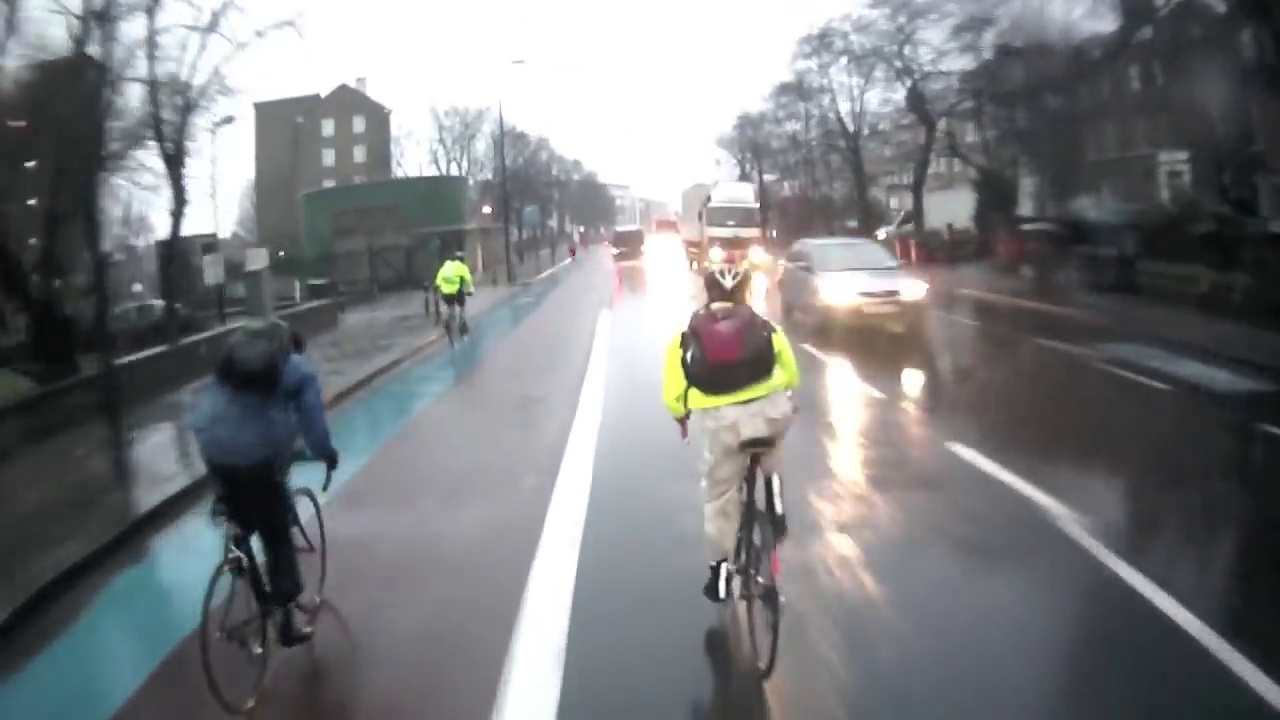cyclist_back: (184, 310, 342, 703), (664, 252, 800, 686), (431, 250, 474, 350)
